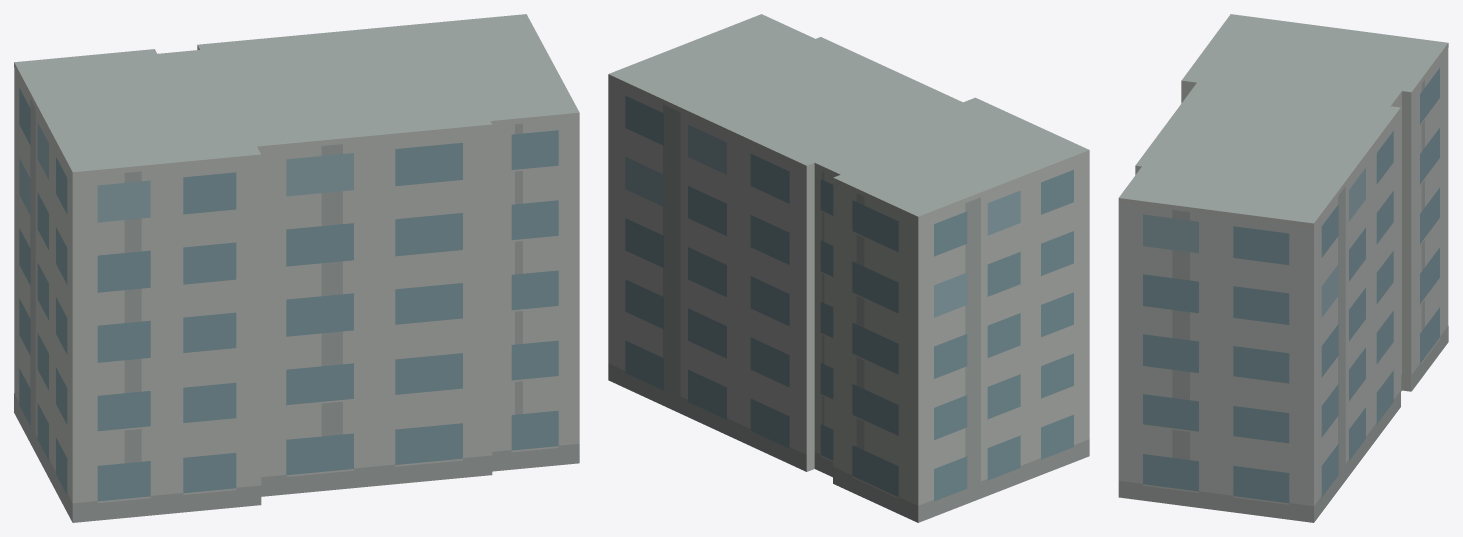
The model's file is survey-upis-32810292.glb.
3 renders of one model, left to right at view 1: azimuth 30°, elevation 25°; view 2: azimuth 150°, elevation 25°; view 3: azimuth 270°, elevation 25°, orthographic. The views are drawn at different scales.
Parts seen in each view (by area): view 1: survey-upis-32810292.tmp; view 2: survey-upis-32810292.tmp; view 3: survey-upis-32810292.tmp.
Part boxes in pixels (x1=…): survey-upis-32810292.tmp: x1=14, y1=14, x2=579, y2=522; survey-upis-32810292.tmp: x1=608, y1=14, x2=1089, y2=522; survey-upis-32810292.tmp: x1=1118, y1=14, x2=1448, y2=522.
Size of the model in its own units: 22.89 by 15.25 by 15.24.
